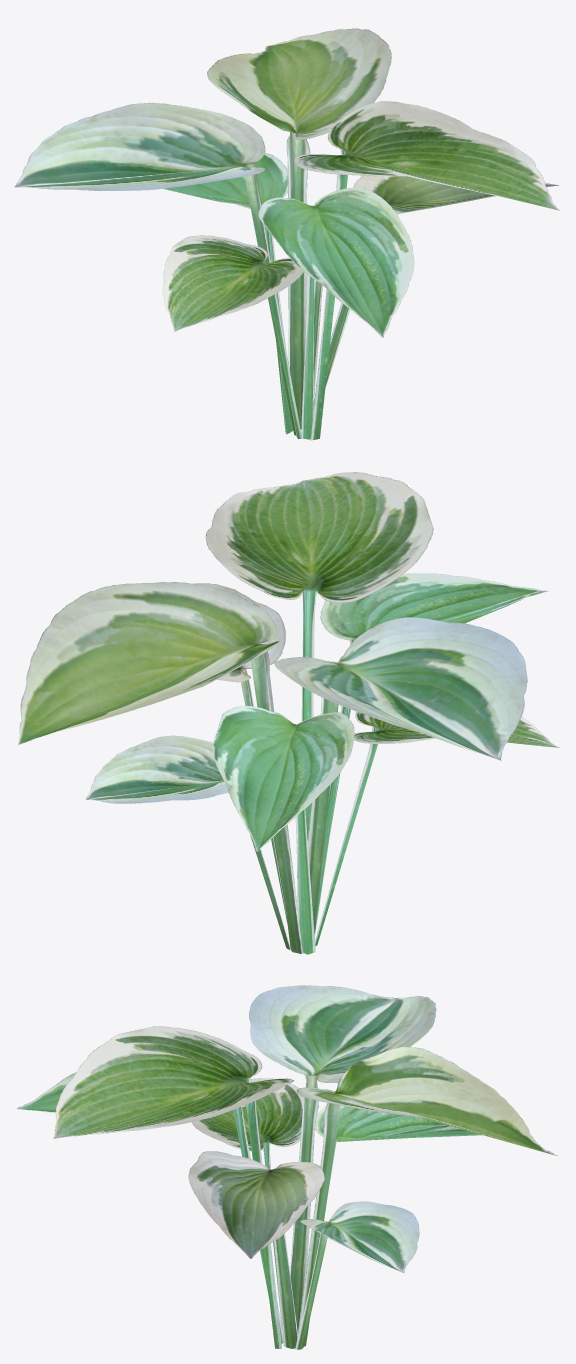
Rendered from plant_small_wg_00A2.fbx.
The picture shows the model from 3 angles, top to bottom: view 1: azimuth 30°, elevation 25°; view 2: azimuth 150°, elevation 25°; view 3: azimuth 270°, elevation 25°; orthographic projection. The views are drawn at different scales.
Parts seen in each view (by area): view 1: plant_small_wg_00A2; view 2: plant_small_wg_00A2; view 3: plant_small_wg_00A2.
Part boxes in pixels (bbox=[...]): plant_small_wg_00A2: bbox=[14, 28, 559, 440]; plant_small_wg_00A2: bbox=[18, 472, 559, 954]; plant_small_wg_00A2: bbox=[17, 985, 557, 1349].
Size of the model in its own units: 57.19 by 38.76 by 62.5.
1 material, 1 textured.
